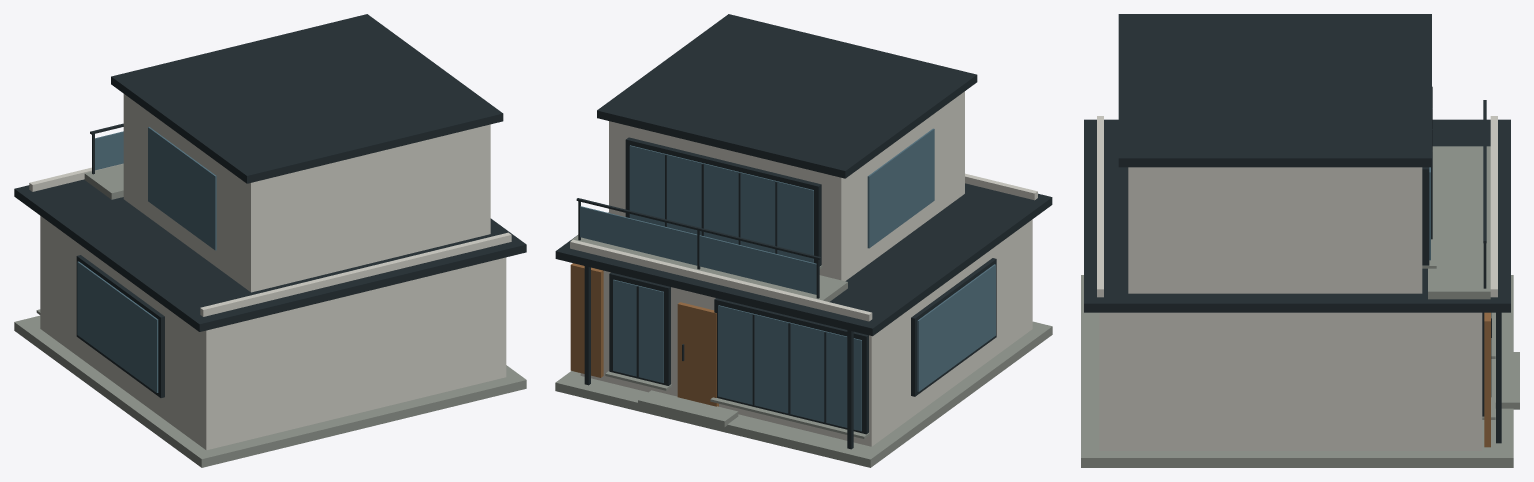
Rendered from house-villa.glb.
The picture shows the model from 3 angles, left to right: view 1: azimuth 30°, elevation 25°; view 2: azimuth 150°, elevation 25°; view 3: azimuth 270°, elevation 25°; orthographic projection. The views are drawn at different scales.
Visible parts, largest first — view 1: WarmWhitePlaster, DarkArchitecturalAluminium, BlueReflectiveGlazing, StoneBase; view 2: DarkArchitecturalAluminium, BlueReflectiveGlazing, WarmWhitePlaster, StoneBase, TimberCladding; view 3: WarmWhitePlaster, DarkArchitecturalAluminium, StoneBase, TimberCladding.
Part boxes in pixels (left/top/right/bottom): WarmWhitePlaster: left=29, top=94, right=511, bottom=450; DarkArchitecturalAluminium: left=14, top=14, right=526, bottom=397; BlueReflectiveGlazing: left=77, top=127, right=216, bottom=392; StoneBase: left=14, top=164, right=526, bottom=467; DarkArchitecturalAluminium: left=555, top=14, right=1052, bottom=449; BlueReflectiveGlazing: left=580, top=128, right=995, bottom=431; WarmWhitePlaster: left=570, top=91, right=1037, bottom=446; StoneBase: left=555, top=235, right=1052, bottom=467; TimberCladding: left=570, top=263, right=718, bottom=406; WarmWhitePlaster: left=1097, top=116, right=1497, bottom=450; DarkArchitecturalAluminium: left=1084, top=14, right=1510, bottom=443; StoneBase: left=1081, top=146, right=1519, bottom=467; TimberCladding: left=1484, top=312, right=1490, bottom=447.
Size of the model in its own units: 7.85 by 6.08 by 7.91.
